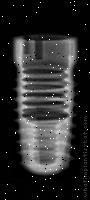Camlog: (12, 34, 79, 178)
